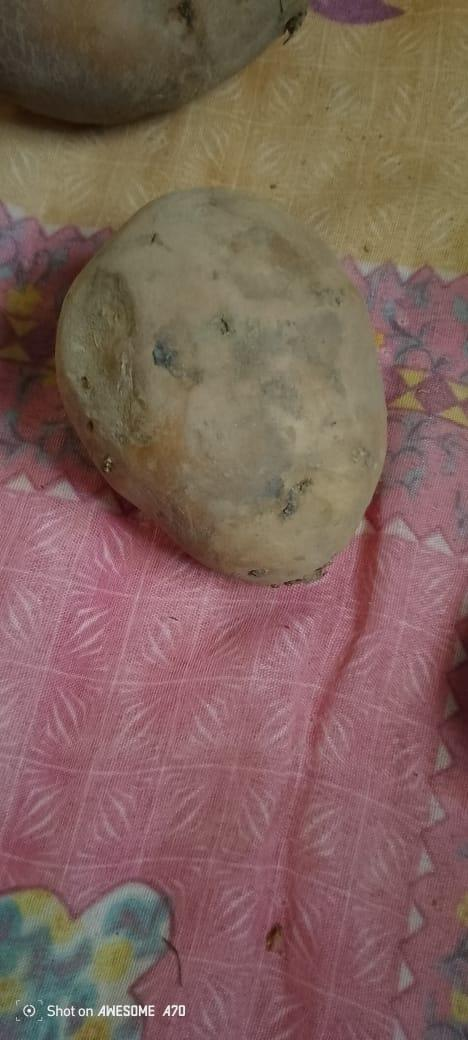non-mango: (57, 181, 389, 585)
